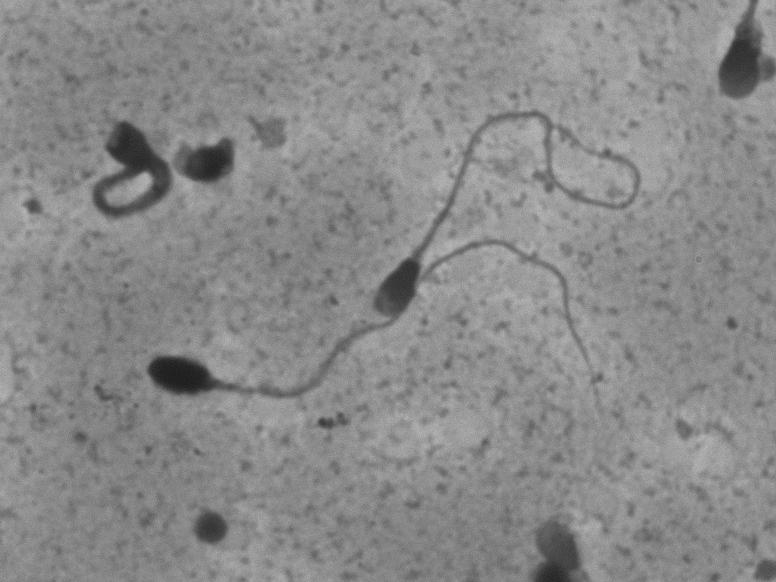Abnormal: (133, 230, 618, 422)
Normal: (363, 86, 670, 323)
